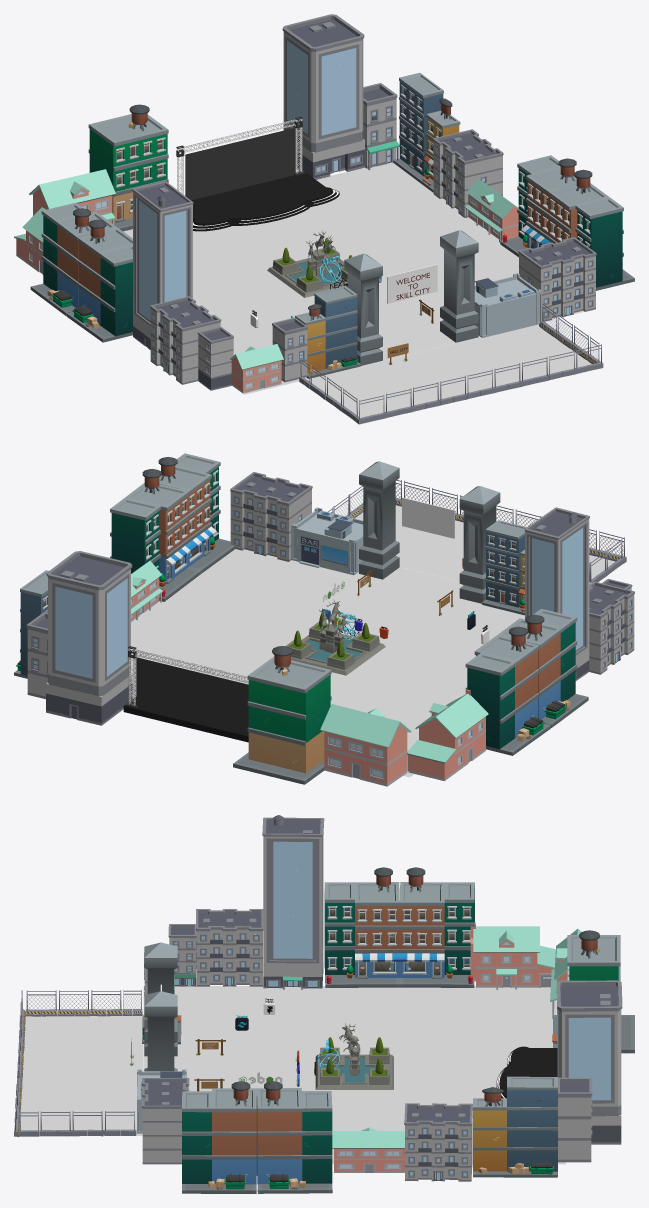
The picture shows the model from 3 angles, top to bottom: view 1: azimuth 30°, elevation 25°; view 2: azimuth 150°, elevation 25°; view 3: azimuth 270°, elevation 25°; orthographic projection. The views are drawn at different scales.
Parts seen in each view (by area): view 1: Plane, Plane.007, stage.001, skyscraperA, skyscraperD, building_D, building_G, building_G.003, large_buildingA, building_H.001, building_G.001, building_H (+15 smaller); view 2: Plane, skyscraperA, building_D, stage.001, skyscraperD, building_G.001, building_G.002, house_type12.003, large_buildingA, house_type08, building_G, building_G.003 (+11 smaller); view 3: Plane, Plane.007, skyscraperD, skyscraperA, building_G, building_H.001, building_G.001, building_G.002, building_G.003, large_buildingA.001, large_buildingA.002, house_type08 (+13 smaller).
Part boxes in pixels (x1,y1,x2,y2): Plane: [123, 162, 584, 394]; Plane.007: [307, 324, 591, 424]; stage.001: [176, 116, 339, 231]; skyscraperA: [282, 14, 364, 179]; skyscraperD: [132, 181, 193, 349]; building_D: [88, 104, 168, 231]; building_G: [66, 219, 132, 342]; building_G.003: [545, 169, 634, 290]; large_buildingA: [518, 237, 596, 321]; building_H.001: [393, 72, 460, 192]; building_G.001: [30, 202, 117, 315]; building_H: [295, 286, 360, 378]; Plane: [131, 549, 524, 777]; skyscraperA: [46, 551, 132, 725]; building_D: [233, 646, 331, 784]; stage.001: [123, 646, 248, 742]; skyscraperD: [524, 507, 589, 680]; building_G.001: [465, 626, 550, 755]; building_G.002: [110, 469, 200, 601]; house_type12.003: [320, 704, 411, 786]; large_buildingA: [230, 472, 312, 561]; house_type08: [407, 689, 488, 780]; building_G: [498, 609, 588, 727]; building_G.003: [158, 453, 235, 573]; Plane: [143, 986, 565, 1164]; Plane.007: [19, 1014, 143, 1135]; skyscraperD: [262, 815, 324, 989]; skyscraperA: [556, 980, 622, 1144]; building_G: [324, 867, 399, 987]; building_H.001: [473, 1076, 557, 1177]; building_G.001: [399, 867, 474, 987]; building_G.002: [257, 1081, 332, 1193]; building_G.003: [182, 1081, 256, 1193]; large_buildingA.001: [404, 1103, 472, 1181]; large_buildingA.002: [196, 909, 263, 986]; house_type08: [470, 922, 555, 989].
Bounding box in the file's own units: 66.09 × 21.08 × 73.53.
88 materials, 6 textured.
